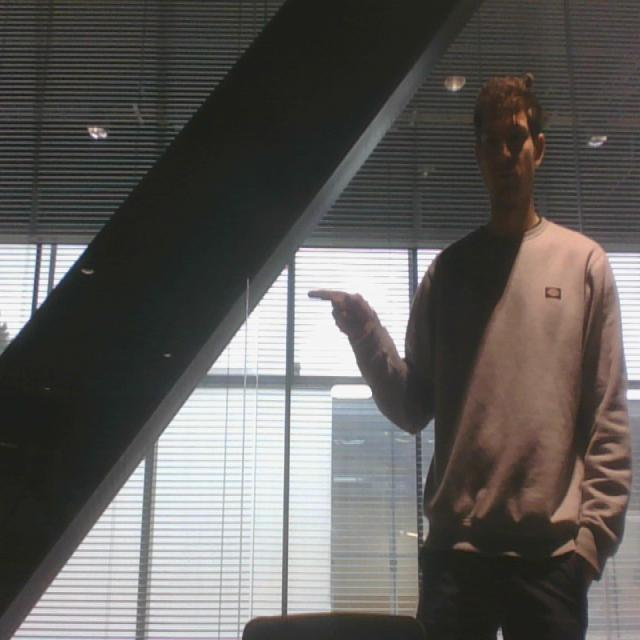left: (305, 284, 375, 342)
